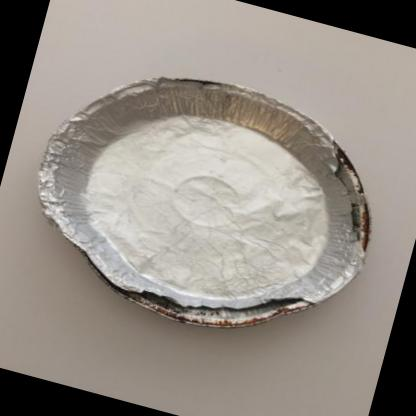Metal: (36, 77, 369, 328)
